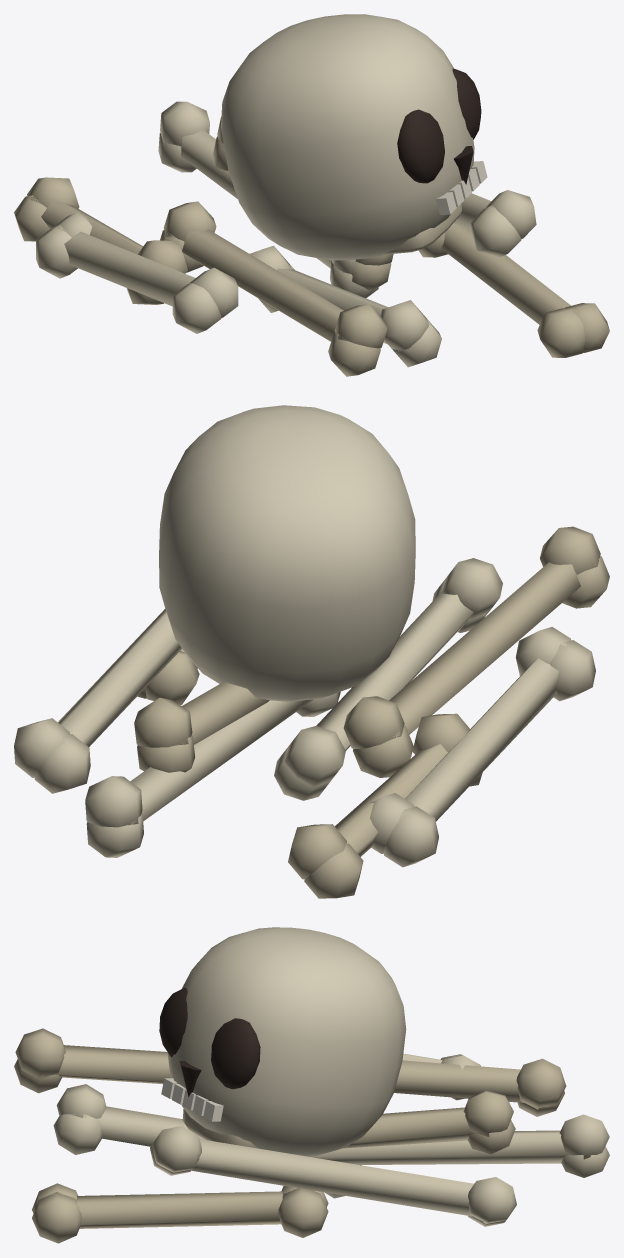
File: cfed6df4-cf09-43b0-85ce-a43367198a94.glb
3 views of the same model, one above another, from view 1: azimuth 30°, elevation 25°; view 2: azimuth 150°, elevation 25°; view 3: azimuth 270°, elevation 25° (orthographic). The views are drawn at different scales.
Parts seen in each view (by area): view 1: Bones; view 2: Bones; view 3: Bones.
Boxes of the visible parts, bbox=[...] form: Bones: bbox=[14, 14, 609, 376]; Bones: bbox=[14, 405, 609, 898]; Bones: bbox=[14, 927, 609, 1243].
Bounding box in the file's own units: 0.6263 × 0.4888 × 0.9582.
